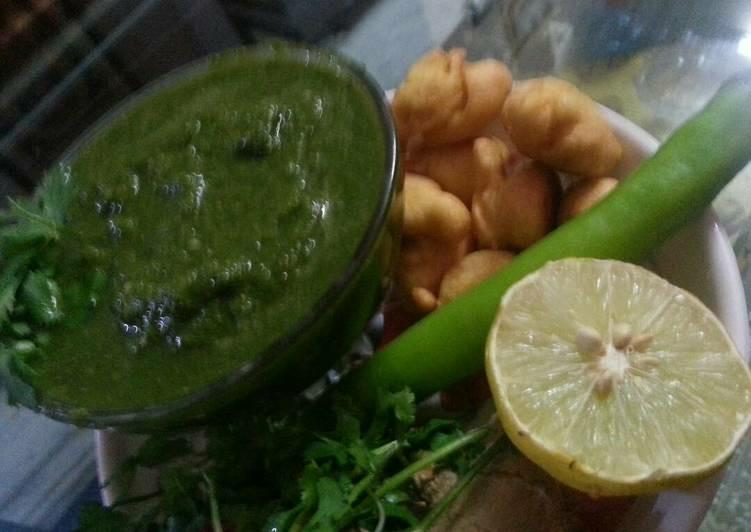GreenChutney: (0, 62, 393, 434)
